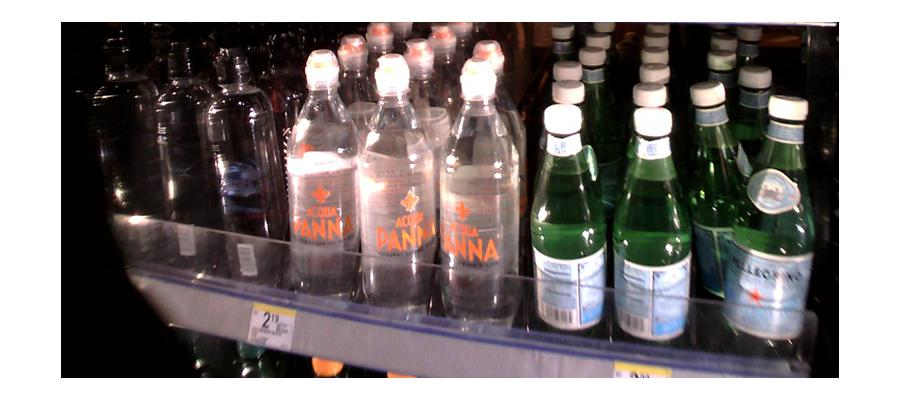bottle: (437, 58, 522, 337), (728, 104, 812, 364), (355, 60, 433, 314), (283, 53, 356, 301), (615, 116, 688, 351), (534, 108, 605, 341), (206, 46, 274, 277), (692, 79, 748, 326), (160, 41, 210, 271)
